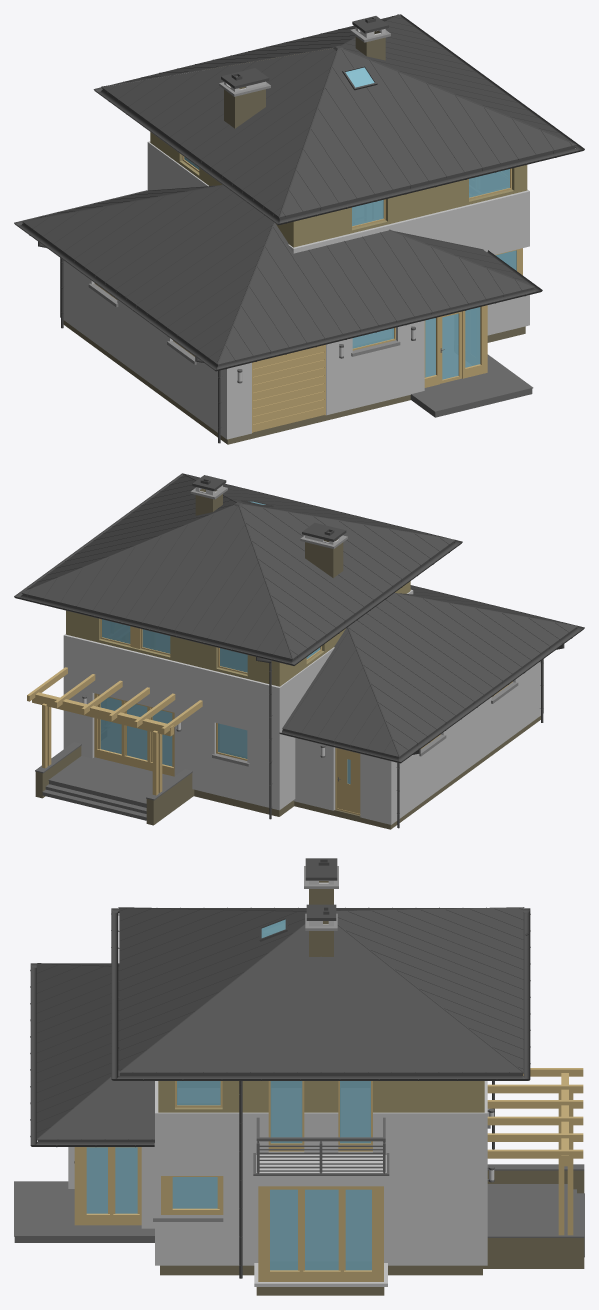
Rendered from Casa.glb.
3 views of the same model, one above another, from view 1: azimuth 30°, elevation 25°; view 2: azimuth 150°, elevation 25°; view 3: azimuth 270°, elevation 25° (orthographic). The views are drawn at different scales.
Visible parts, largest first — view 1: Bambo_House; view 2: Bambo_House; view 3: Bambo_House.
Part boxes in pixels (left/top/right/bottom): Bambo_House: left=14, top=14, right=584, bottom=444; Bambo_House: left=14, top=473, right=584, bottom=829; Bambo_House: left=14, top=858, right=584, bottom=1295.
Bounding box in the file's own units: 5.46 × 3.6 × 5.82.
